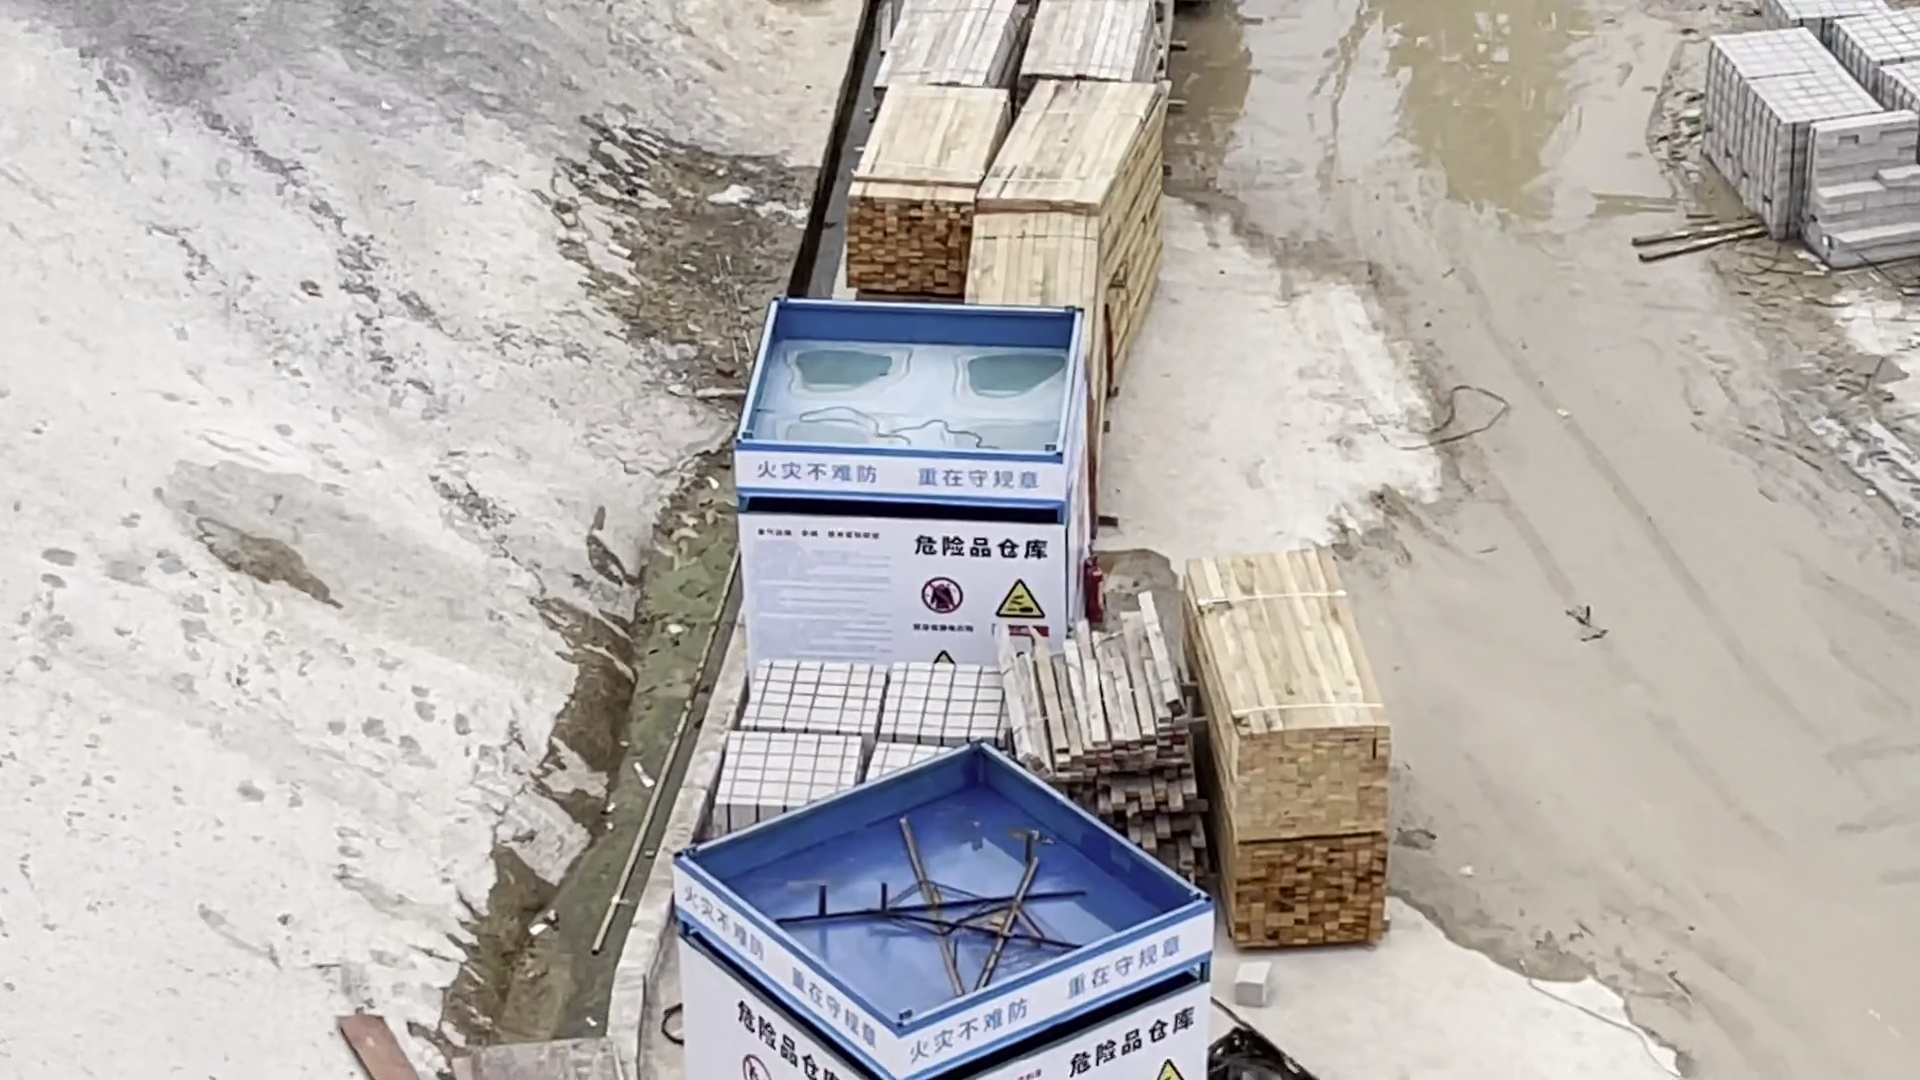brick: (1807, 103, 1920, 286)
slogan: (717, 277, 1121, 651)
wood: (1002, 608, 1232, 891), (1191, 559, 1404, 851), (986, 73, 1178, 353), (968, 206, 1124, 402), (837, 75, 992, 261), (1215, 829, 1408, 956), (887, 3, 1021, 94), (1036, 8, 1172, 94)
